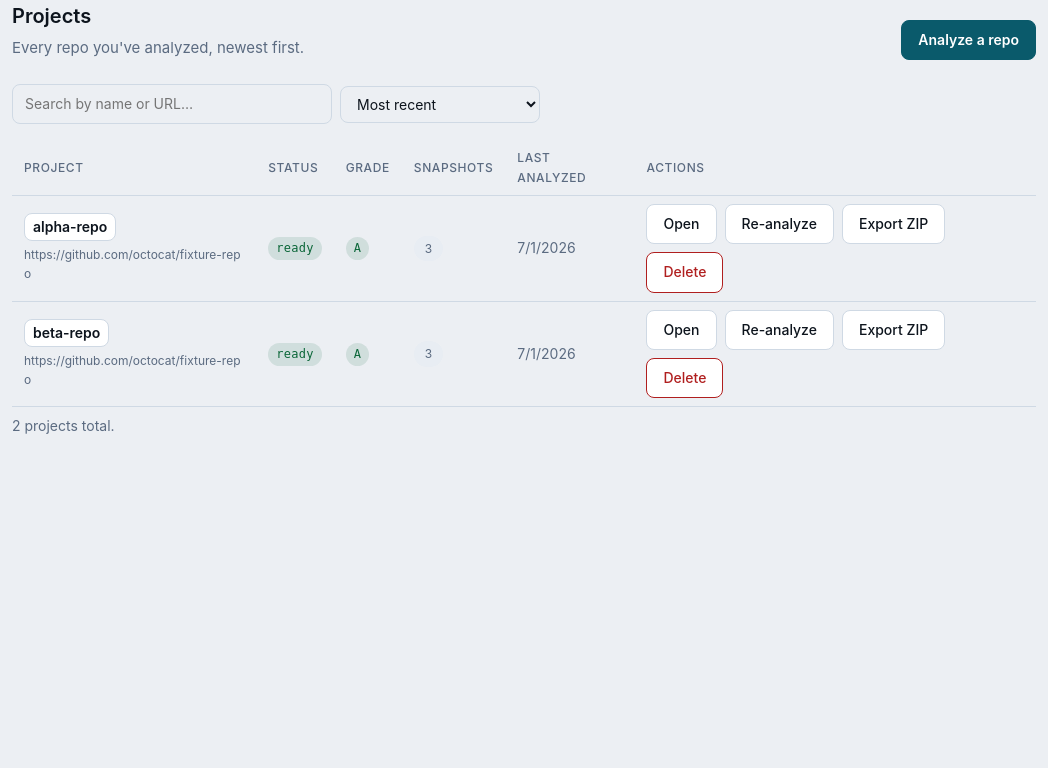
Test: ProjectsPage — row actions › an older, slower load() response never overwrites a newer one that already resolved
Expected: the button "alpha-repo" is shown, [24,213,116,241]
What coordinates should you click on to do the following:
click the 1st button "Delete"
I would click on:
 (685, 272)
Its box is [646,252,723,293].
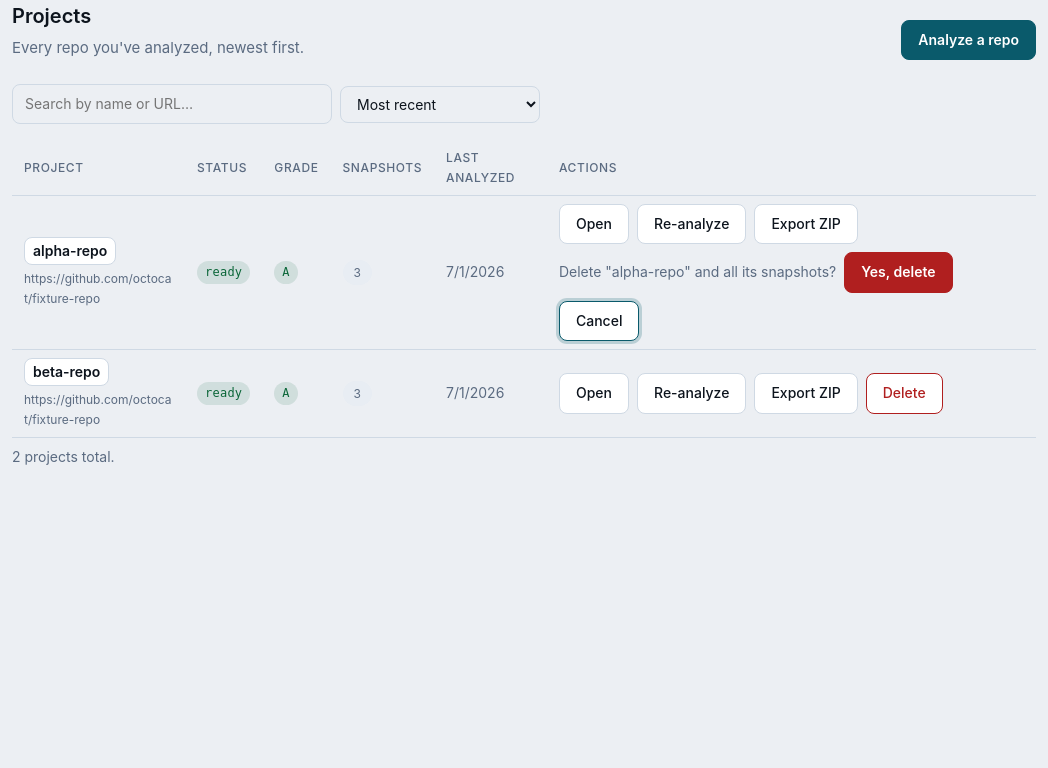
What coordinates should you click on to do the following:
click the button "Yes, delete"
I would click on:
 (898, 272)
Its box is [844,252,952,293].
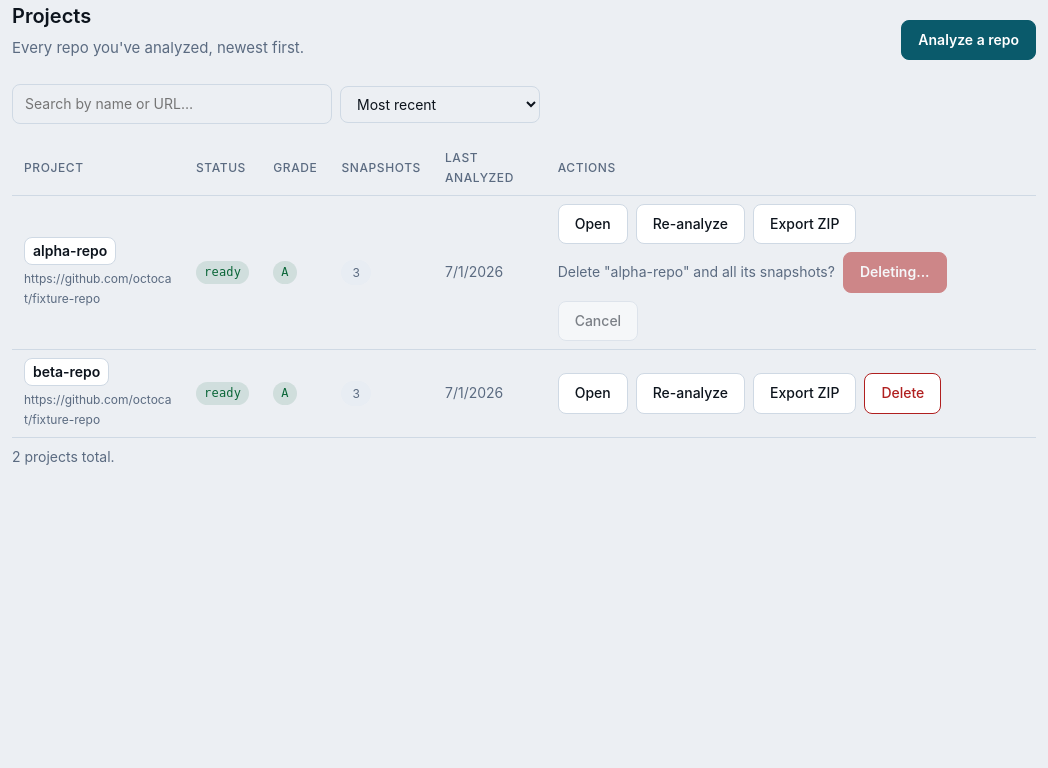
What coordinates should you click on to do the following:
click the button "Delete"
I would click on:
 (903, 393)
Its box is [864,373,941,414].
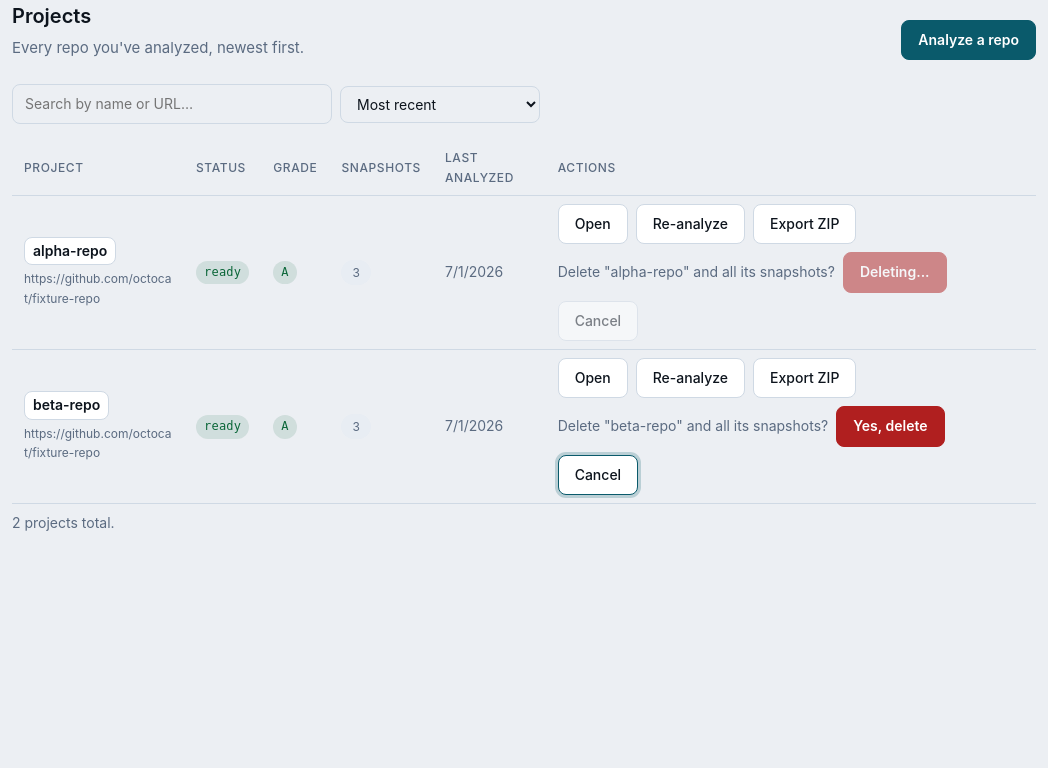
What coordinates should you click on to do the following:
click the button "Yes, delete"
I would click on:
 (890, 426)
Its box is [836,406,944,447].
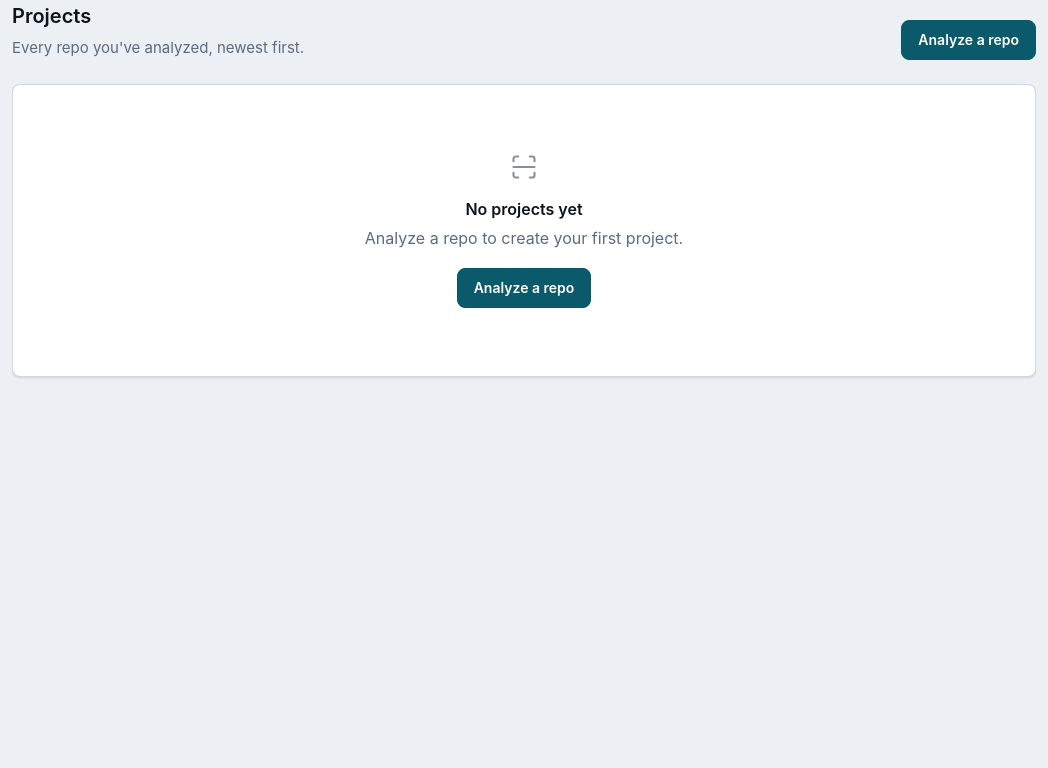
Expected: the text "No projects yet" is shown, [465,199,583,219]
Expected: the button "beta-repo" is gone
